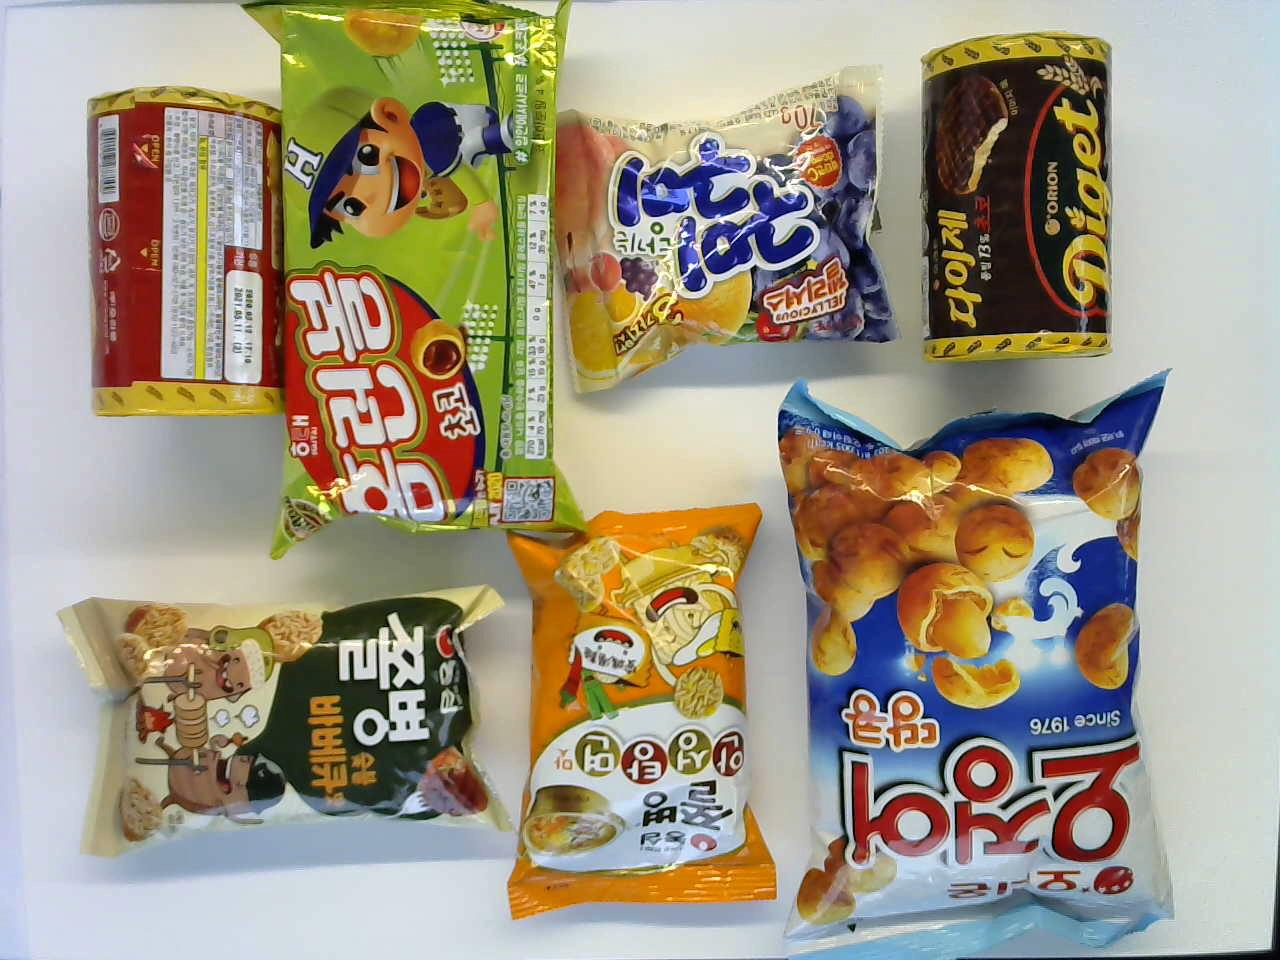diget_choco: (916, 33, 1121, 370)
diget_ori: (84, 86, 287, 419)
gumi_gumi: (561, 64, 892, 385)
homerunball: (273, 3, 561, 518)
jjolbyung_noodle: (496, 494, 767, 920)
jjolbyung_ori: (51, 577, 509, 865)
squid_peanut: (767, 375, 1177, 949)
